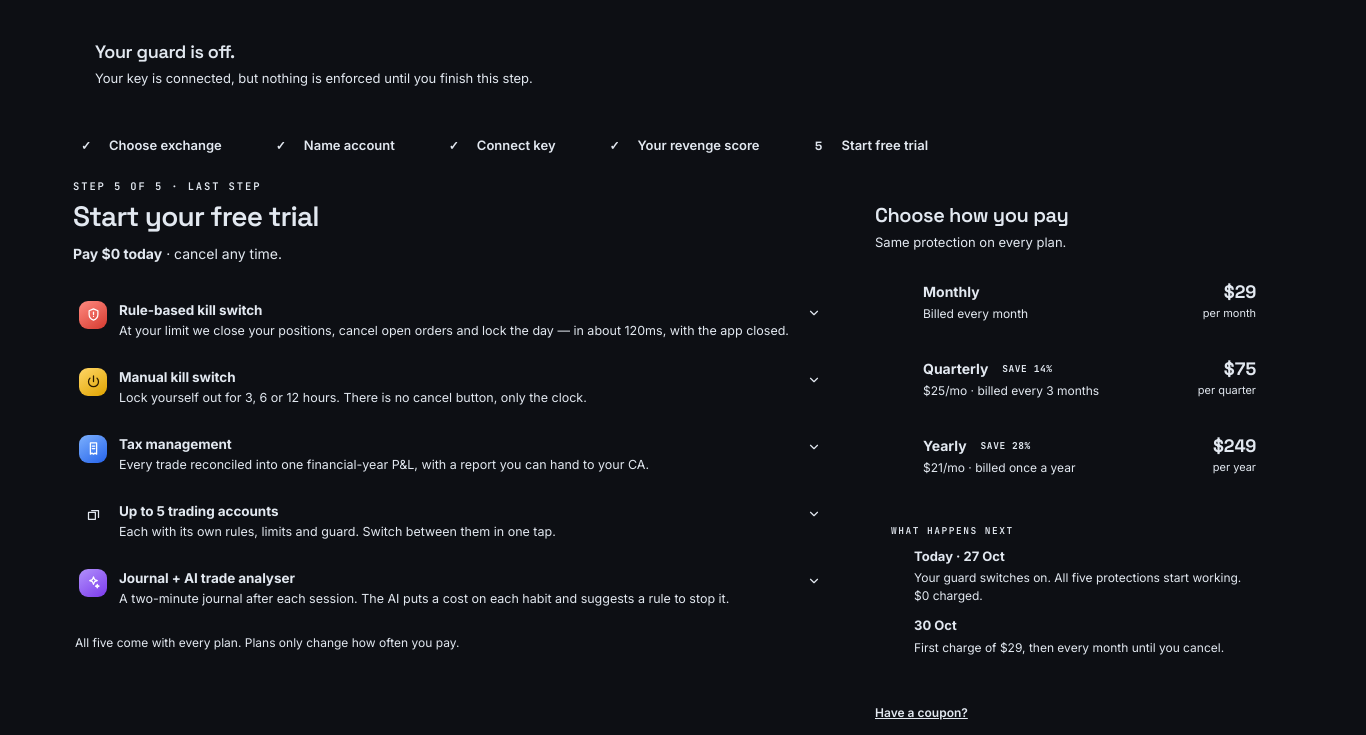
billing step › follows the selected plan through the button and the timeline
Click the radio button labelled "Monthly Billed every month $29 per month" at (951, 292), box [875, 268, 1271, 336]
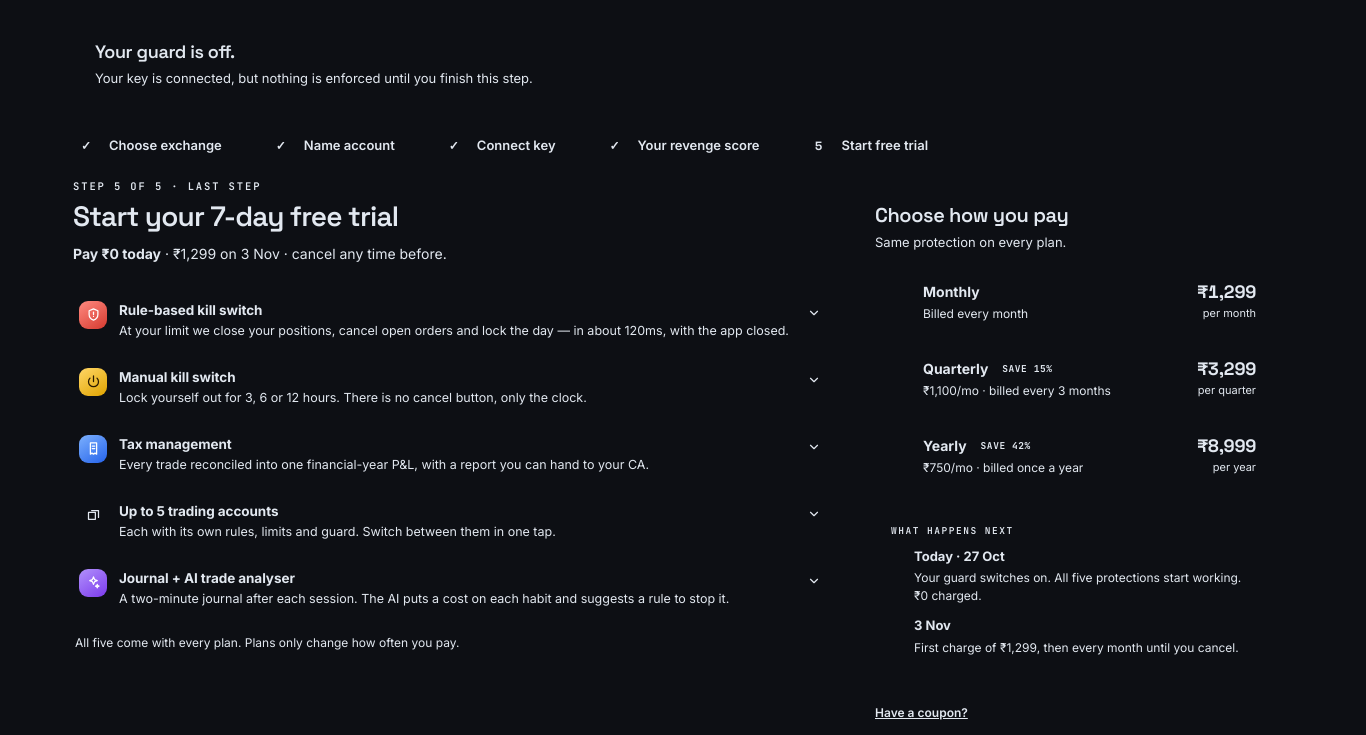
expect the text "First charge of ₹1,299, then every month until you cancel." is shown: met, box [914, 638, 1239, 656]
